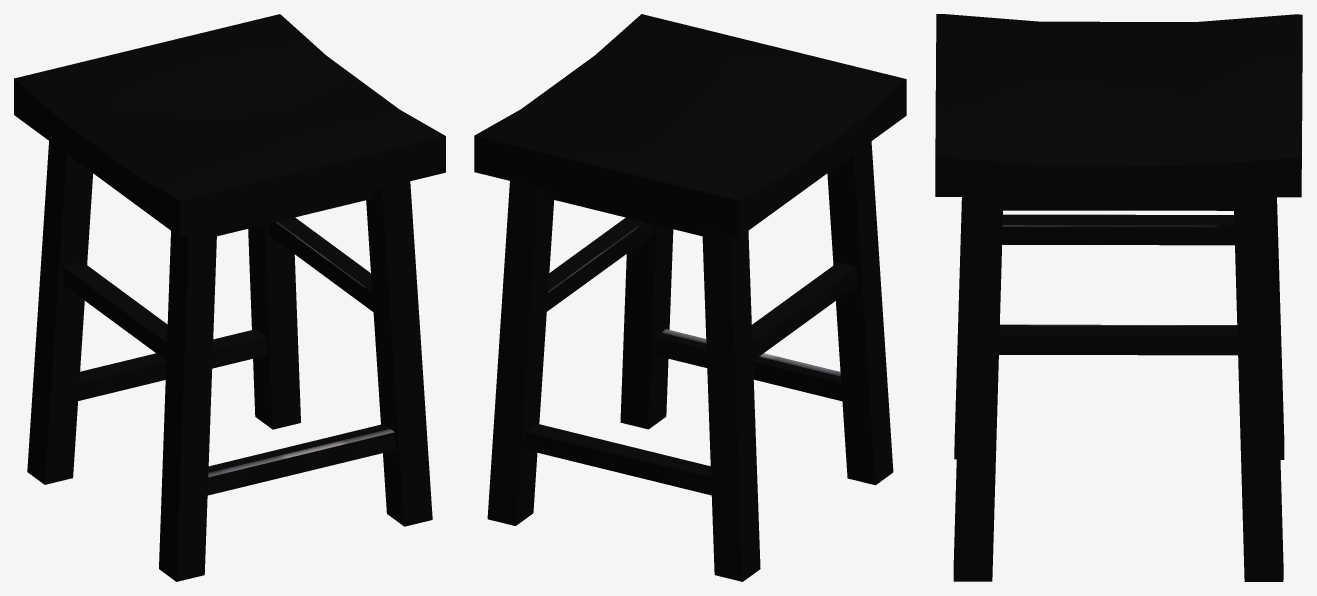
Rendered from o_mdl_env_propFurnitureStoolA-transformed.glb.
3 renders of one model, left to right at view 1: azimuth 30°, elevation 25°; view 2: azimuth 150°, elevation 25°; view 3: azimuth 270°, elevation 25°, orthographic. The views are drawn at different scales.
Visible parts, largest first — view 1: default; view 2: default; view 3: default.
Part boxes in pixels (x1,y1,x2,y2): default: (14,14,445,581); default: (474,14,906,581); default: (935,14,1302,581).
Size of the model in its own units: 0.3819 by 0.5361 by 0.4144.
Materials: 1 (1 with a texture image).
